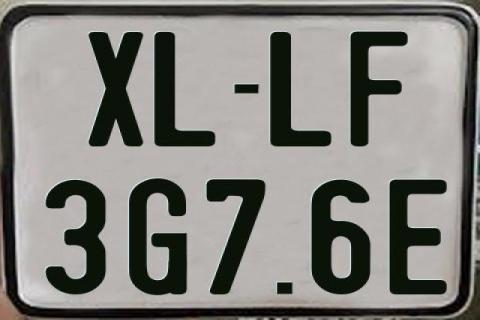0: (308, 178, 373, 296), (44, 179, 107, 297), (206, 180, 268, 298)
E: (387, 177, 447, 297)
F: (350, 30, 409, 146)
G: (128, 177, 188, 295)
L: (269, 30, 334, 150), (153, 32, 219, 150)
X: (89, 30, 149, 146)
